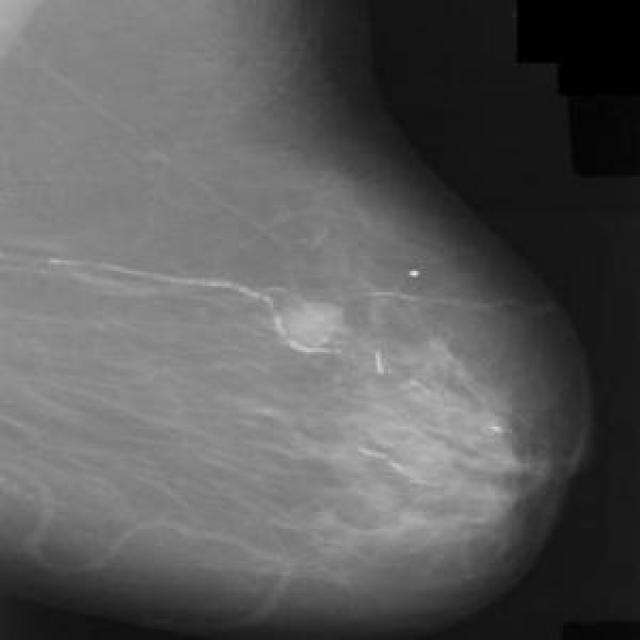tumor: (388, 340, 525, 550), (261, 281, 362, 364)
